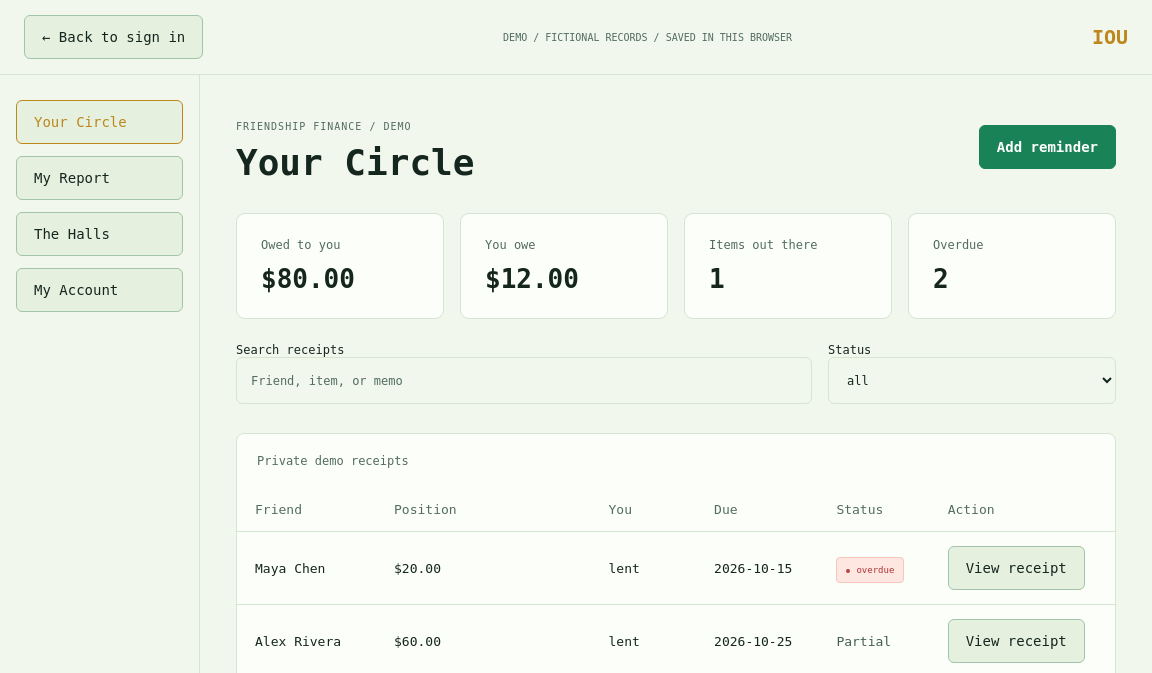
Test: native React local demo › records a partial repayment and retains the audit entry in the existing demo schema
The image size is (1152, 673).
Click the button "View receipt" in the row of "$20.00" at (1016, 568), box top-left (948, 546), bottom-right (1085, 590)
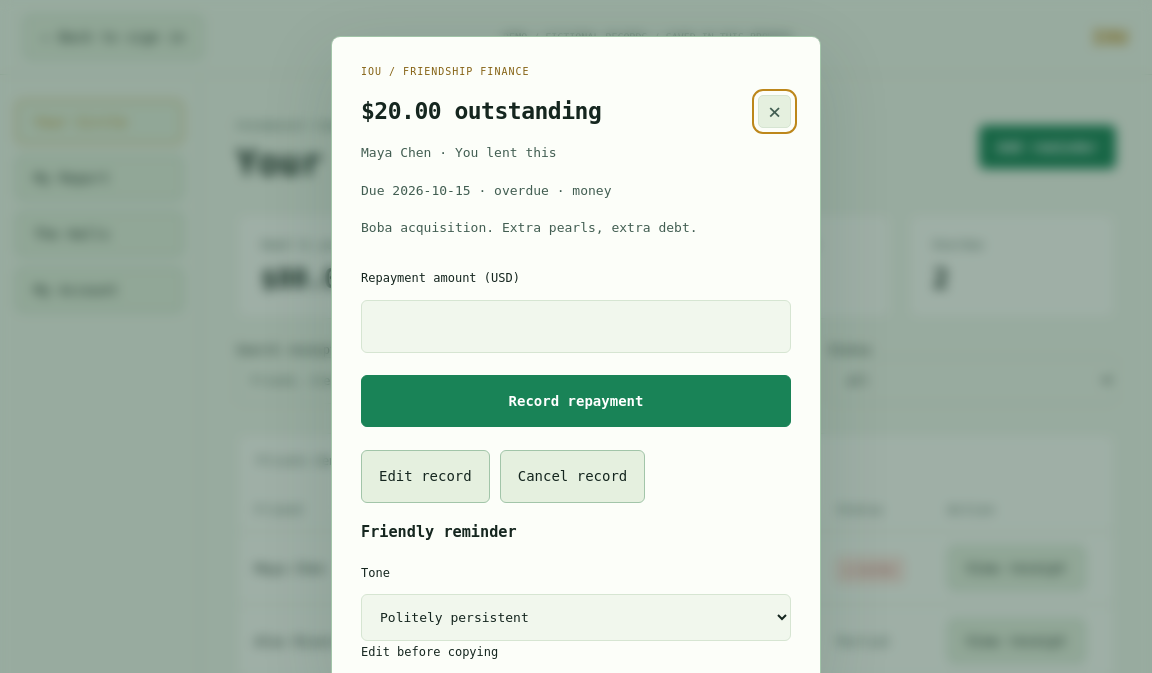
Type "5.00" into the number field labelled "Repayment amount (USD)" at (576, 326), box top-left (361, 300), bottom-right (791, 353)
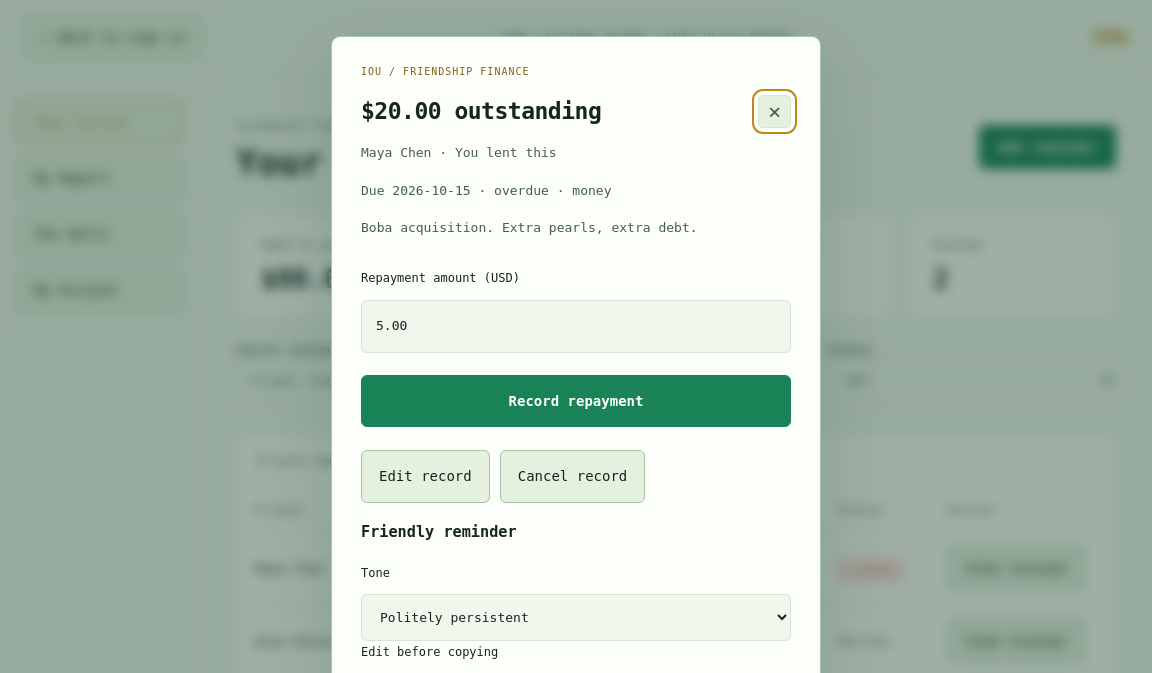
Click the button "Record repayment" at (576, 401), box top-left (361, 374), bottom-right (791, 427)
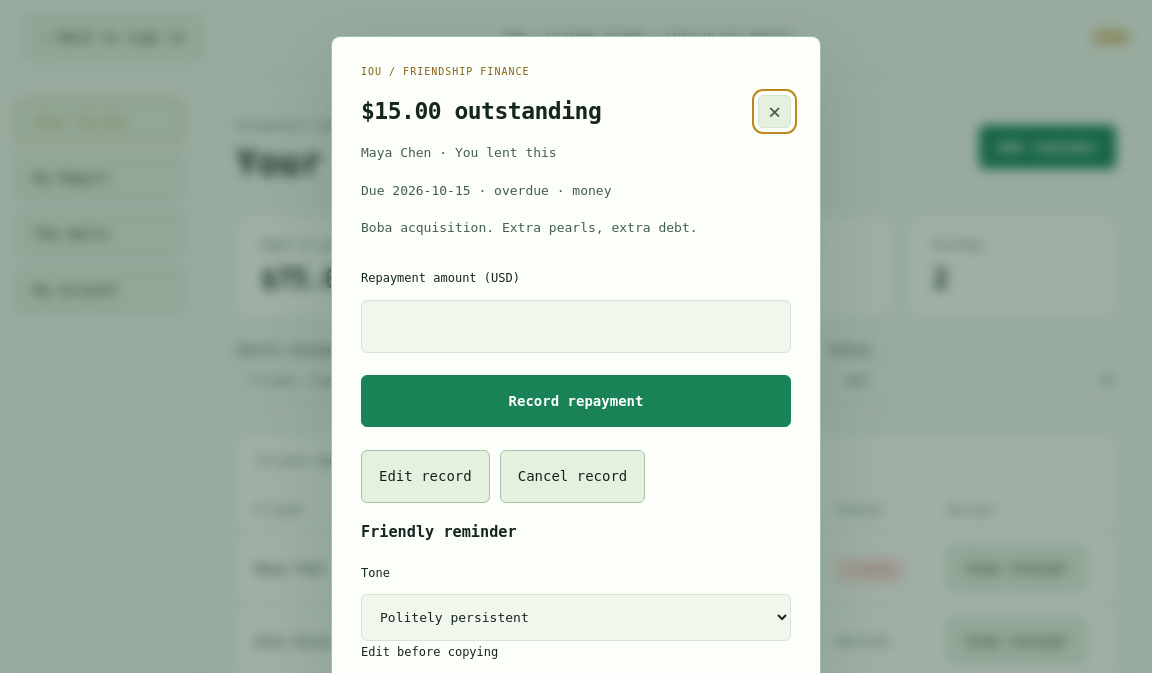
Result: the dialog shows "$15.00 outstanding" at top-left (361, 98), bottom-right (601, 124)
